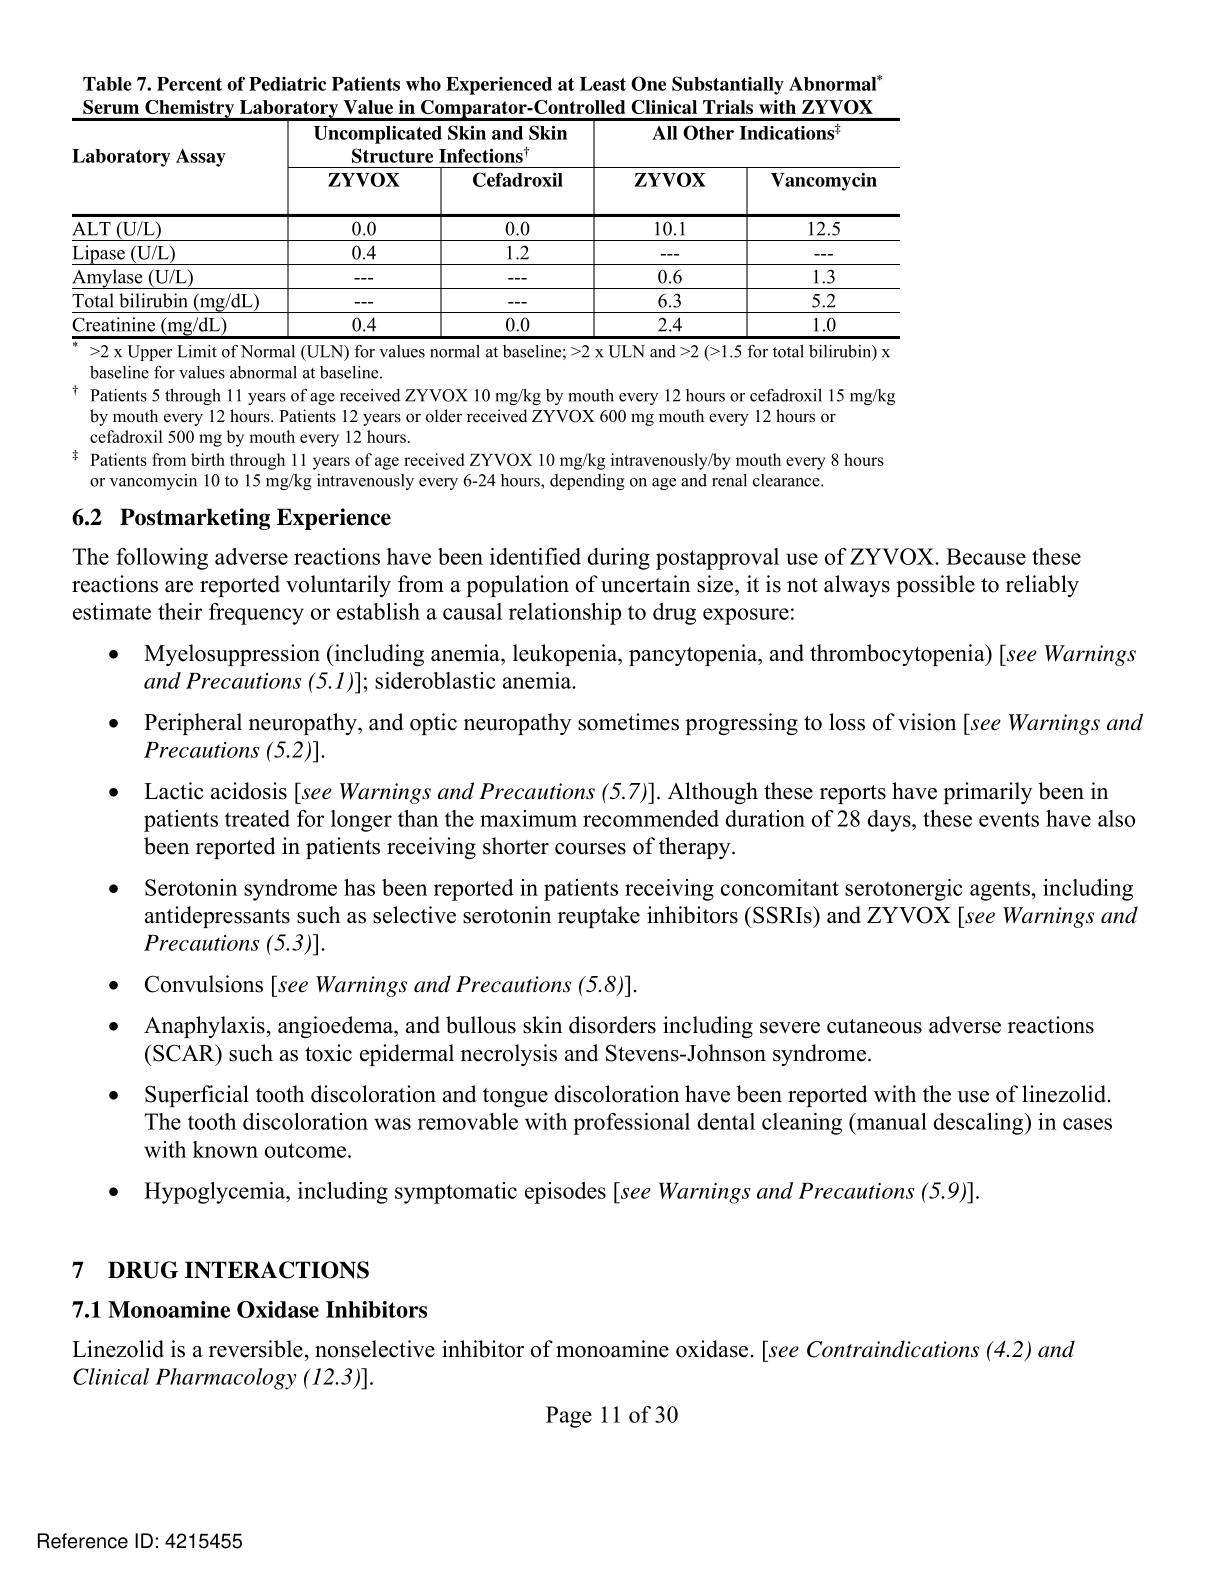partial_lined_merged_cells: (69, 116, 905, 339)
